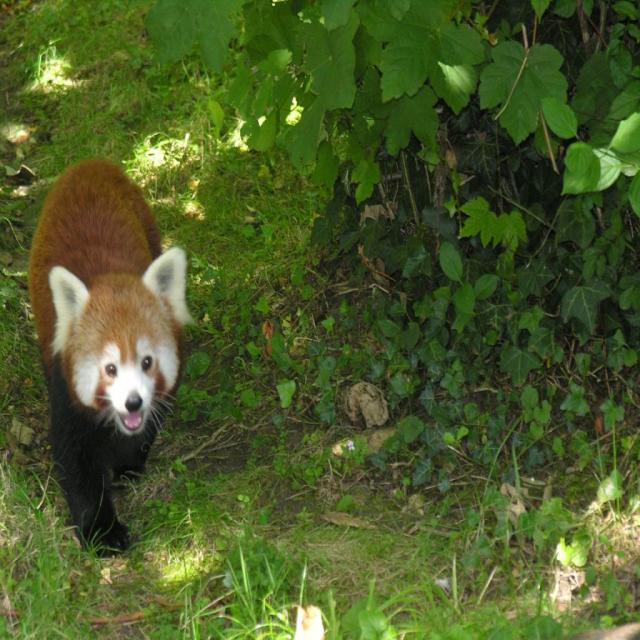Bear: (27, 156, 197, 560)
